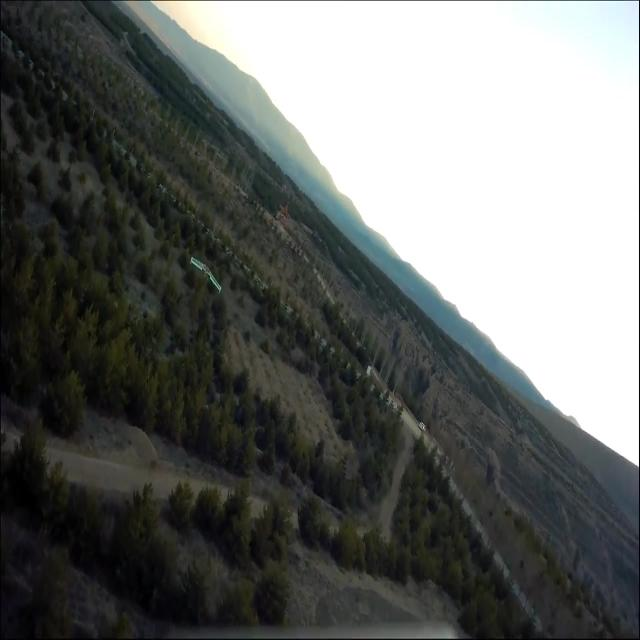iha: (189, 255, 220, 292)
